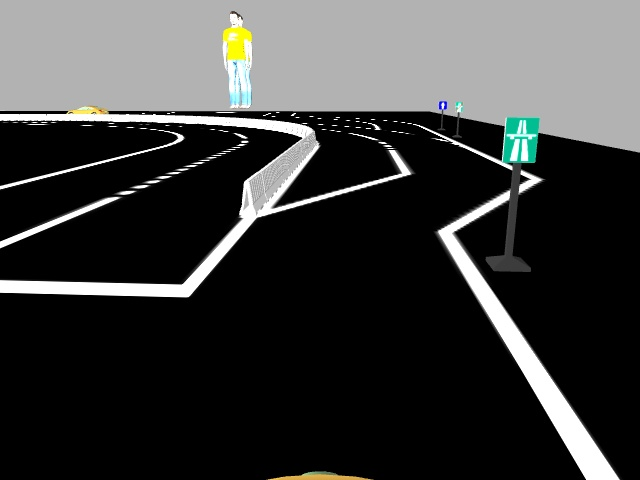HighwayEntrance: (502, 115, 538, 163)
